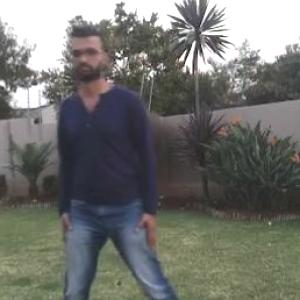follow: (45, 15, 165, 299)
